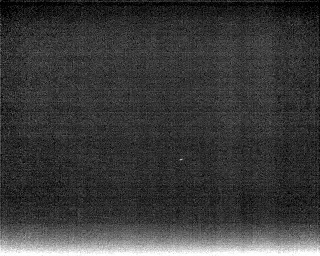BIRD: (178, 155, 185, 164)
